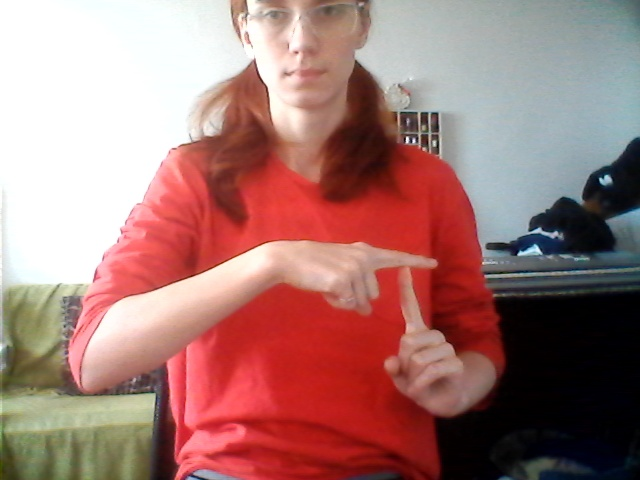t: (292, 223, 465, 420)
